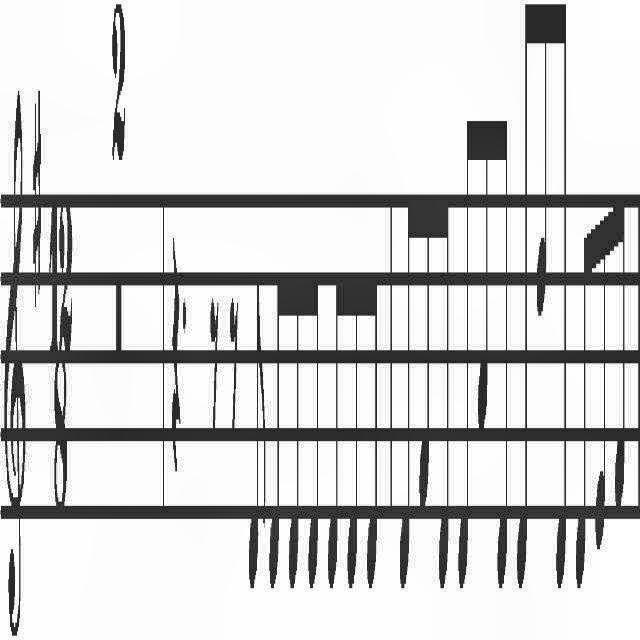Bass-clef: (4, 86, 26, 640)
Diez: (32, 84, 42, 312)
Eighth-note: (554, 0, 568, 604), (515, 0, 529, 600), (457, 80, 471, 606), (398, 172, 414, 596), (248, 274, 268, 602), (497, 89, 509, 596), (612, 179, 628, 559), (416, 166, 432, 532), (436, 163, 449, 605), (575, 213, 589, 602), (364, 244, 378, 596), (286, 247, 300, 593), (345, 253, 359, 593), (476, 92, 489, 452), (594, 201, 606, 587), (535, 0, 549, 328), (328, 241, 340, 603), (307, 244, 319, 596), (270, 259, 282, 593)
Eighth-rest: (209, 293, 219, 435), (230, 294, 238, 430)
Quarter-rest: (171, 228, 181, 470)
